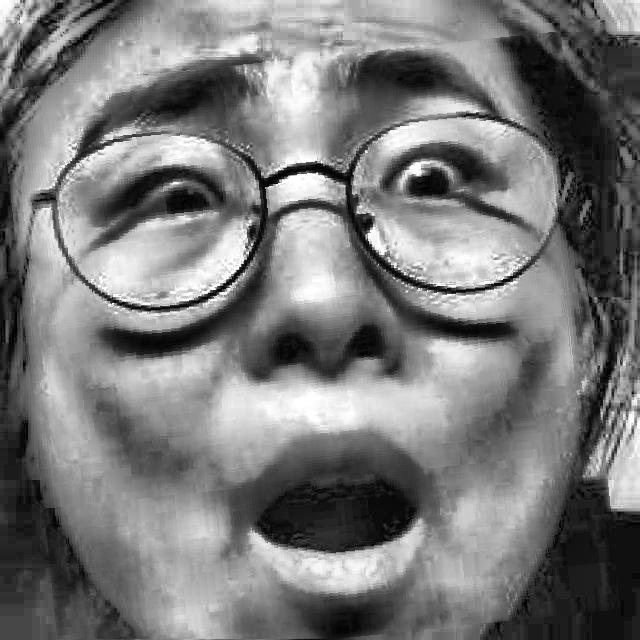fear: (14, 45, 607, 640)
